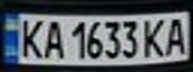1: (66, 18, 87, 60)
3: (121, 17, 142, 60), (103, 18, 124, 60)
6: (84, 18, 106, 61)
A: (160, 14, 193, 56), (39, 17, 66, 60)
K: (139, 16, 172, 58), (15, 16, 45, 60)
